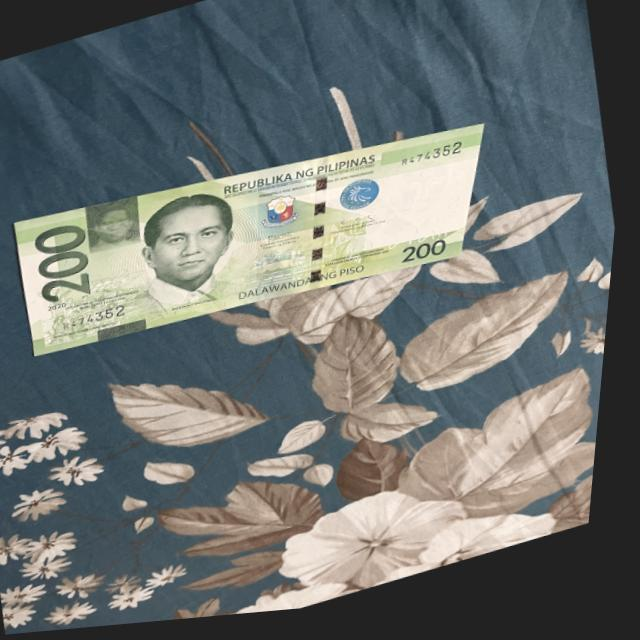concealed_value: (83, 192, 149, 258)
security_thread: (315, 162, 332, 295)
see_through_mark: (390, 230, 458, 262)
serial_number: (399, 145, 469, 179)
value: (25, 215, 105, 313)
